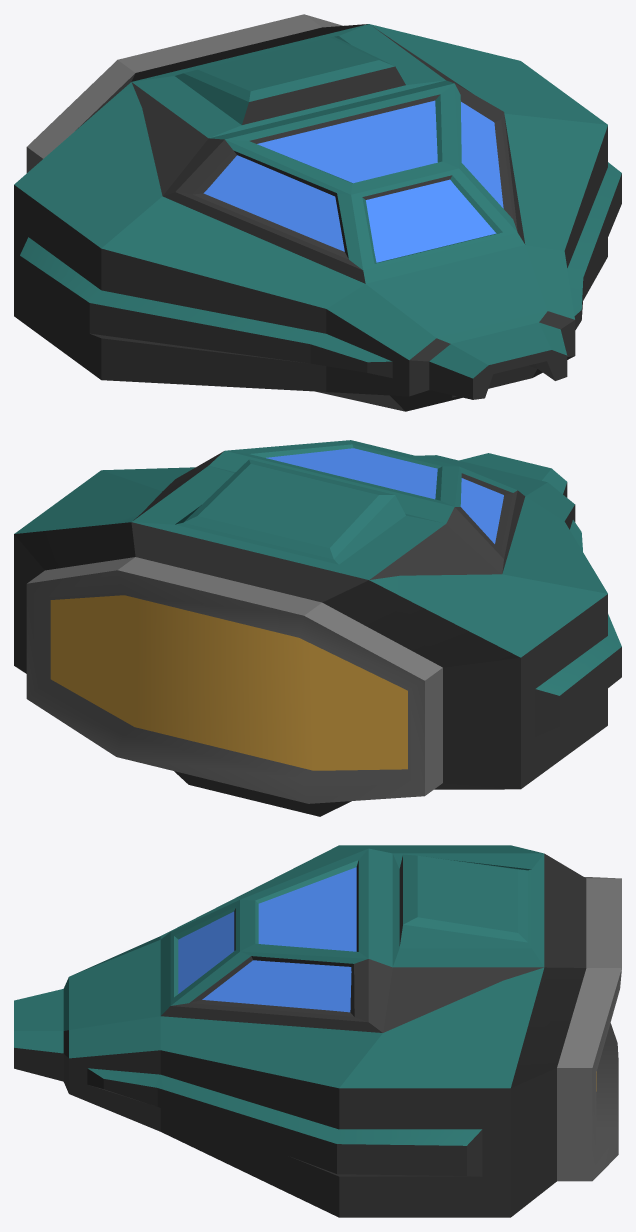
Rendered from Ship_2x2_C2.fbx.
The picture shows the model from 3 angles, top to bottom: view 1: azimuth 30°, elevation 25°; view 2: azimuth 150°, elevation 25°; view 3: azimuth 270°, elevation 25°; orthographic projection.
Visible parts, largest first — view 1: Ship_2x2_C2; view 2: Ship_2x2_C2; view 3: Ship_2x2_C2.
Part boxes in pixels (x1=…): Ship_2x2_C2: x1=14, y1=14, x2=621, y2=411; Ship_2x2_C2: x1=14, y1=440, x2=621, y2=816; Ship_2x2_C2: x1=14, y1=845, x2=621, y2=1217.
Bounding box in the file's own units: 191 × 93.5 × 189.
